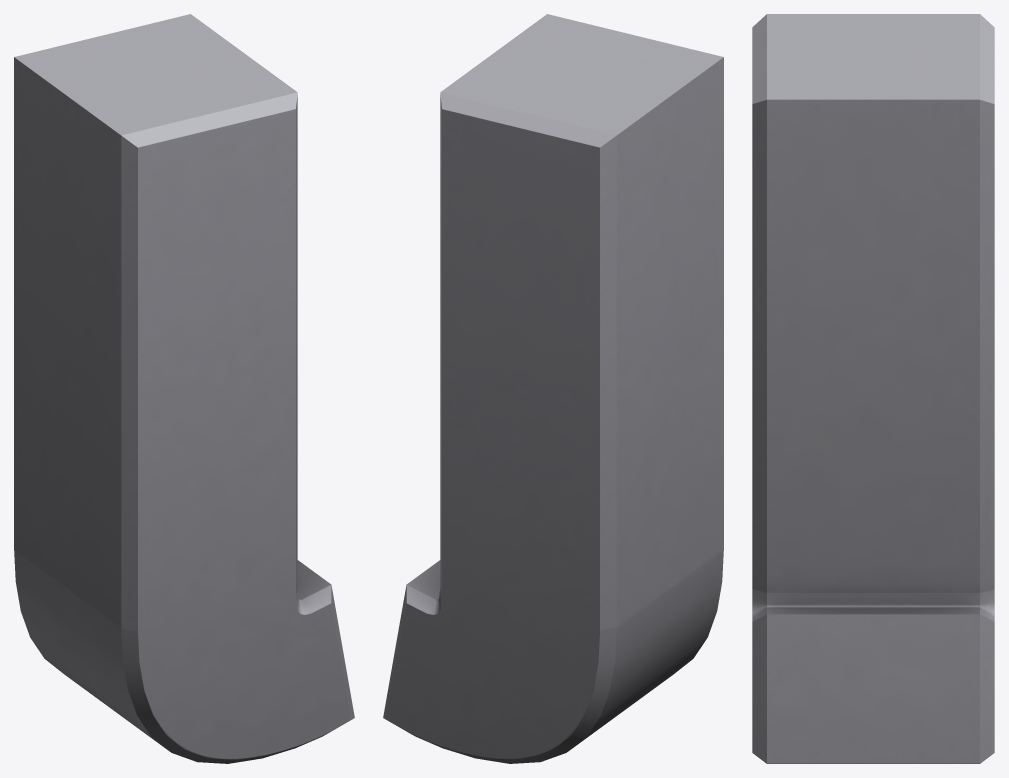
The model's file is l_lowc_static.fbx.
The picture shows the model from 3 angles, left to right: view 1: azimuth 30°, elevation 25°; view 2: azimuth 150°, elevation 25°; view 3: azimuth 270°, elevation 25°; orthographic projection.
Visible parts, largest first — view 1: l_lowc_static; view 2: l_lowc_static; view 3: l_lowc_static.
Boxes of the visible parts, x1,y1,x2,y2 form: l_lowc_static: [14, 14, 354, 763]; l_lowc_static: [383, 14, 723, 763]; l_lowc_static: [752, 14, 994, 763].
Size of the model in its own units: 36.54 by 98.23 by 33.
